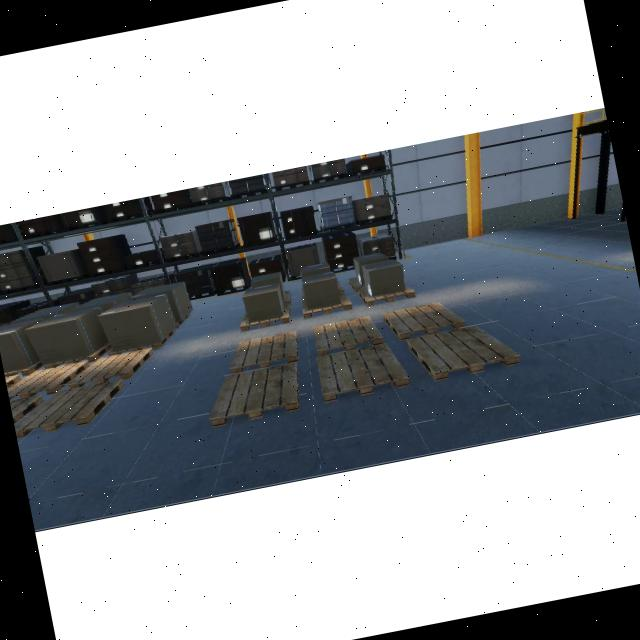wooden_pallet: (15, 379, 125, 438), (407, 325, 521, 381), (210, 363, 299, 427), (317, 342, 410, 403), (67, 348, 154, 389), (382, 302, 465, 341), (230, 331, 298, 374), (313, 316, 383, 356), (109, 329, 176, 356), (240, 302, 291, 332), (302, 292, 354, 319), (358, 285, 417, 306)
